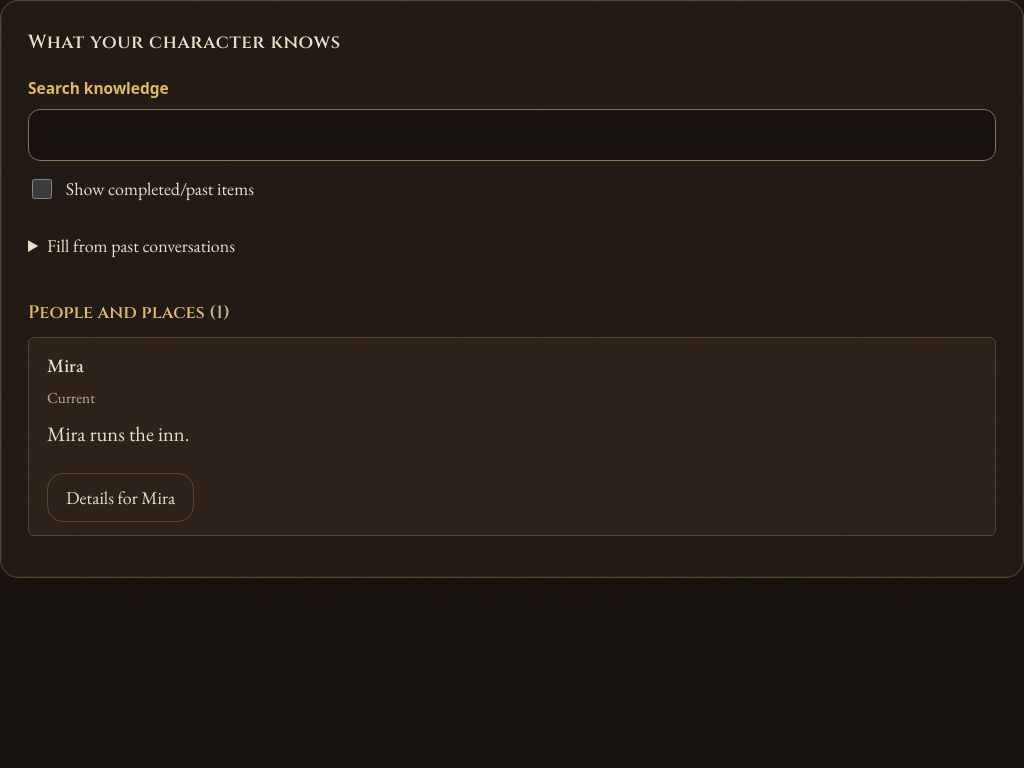
Test: opens details with a normal conversation link and shows only the recorded source quote
Click the button "Details for Mira" at (121, 498), box left=47, top=473, right=194, bottom=522
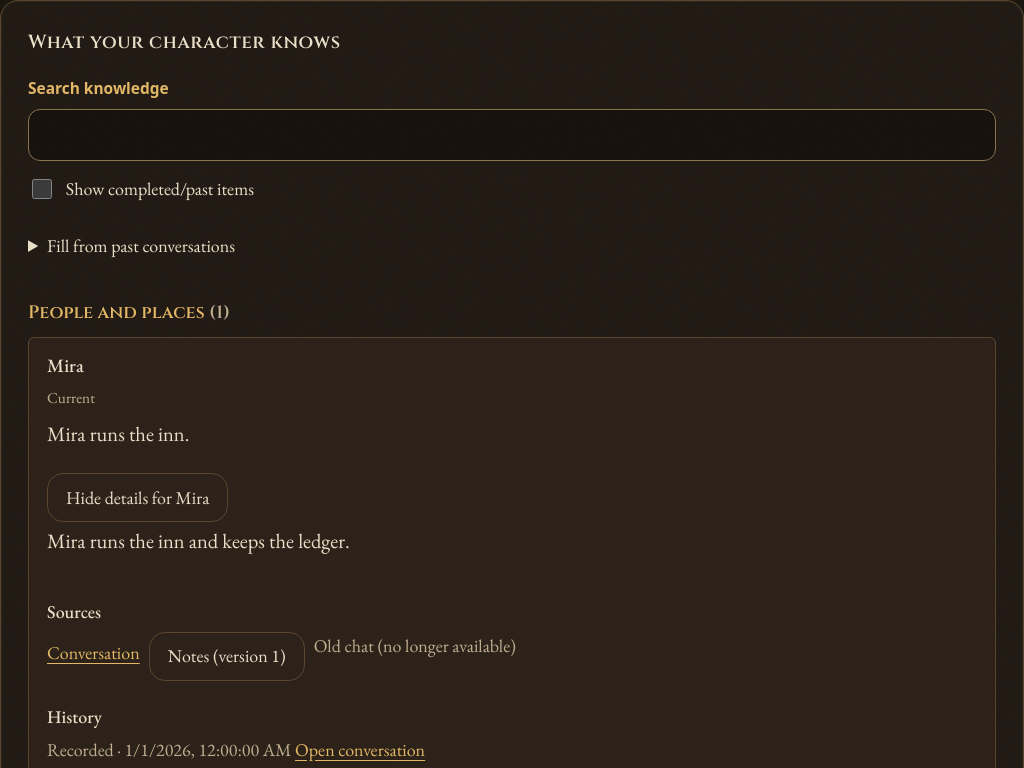
Expected: the text "Old chat (no longer available)" is shown, left=314, top=634, right=516, bottom=657
Click the button "Notes (version 1)" at (227, 656), box left=149, top=632, right=305, bottom=681
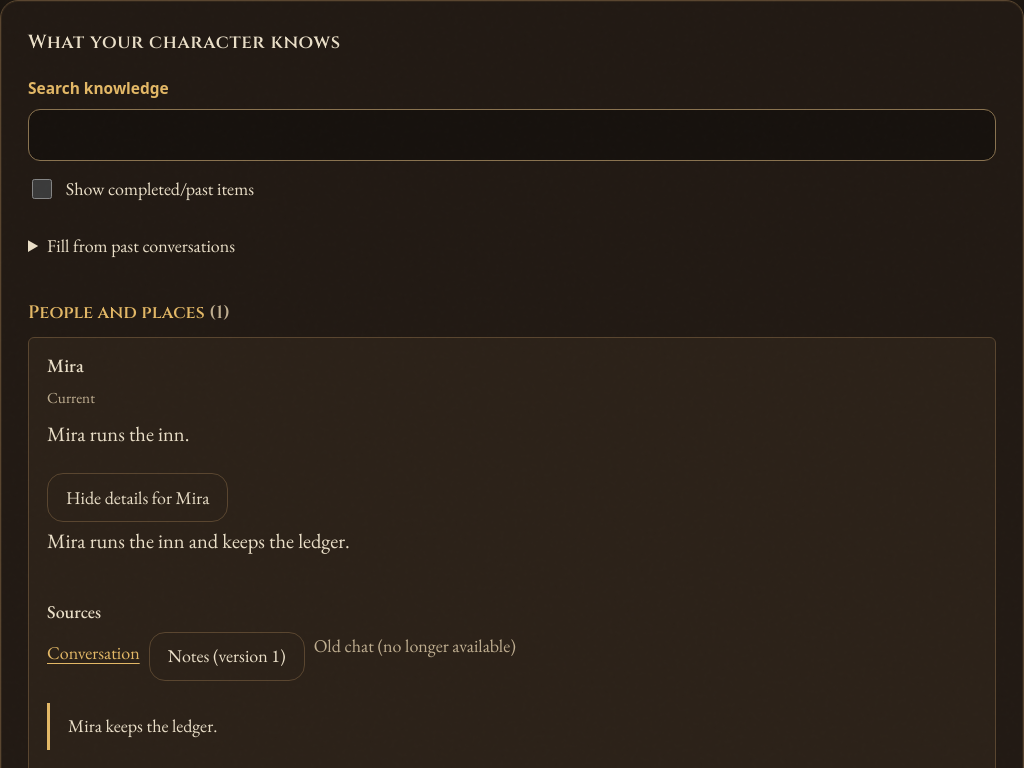
Expected: the text "Mira keeps the ledger." is shown, left=47, top=703, right=977, bottom=750
